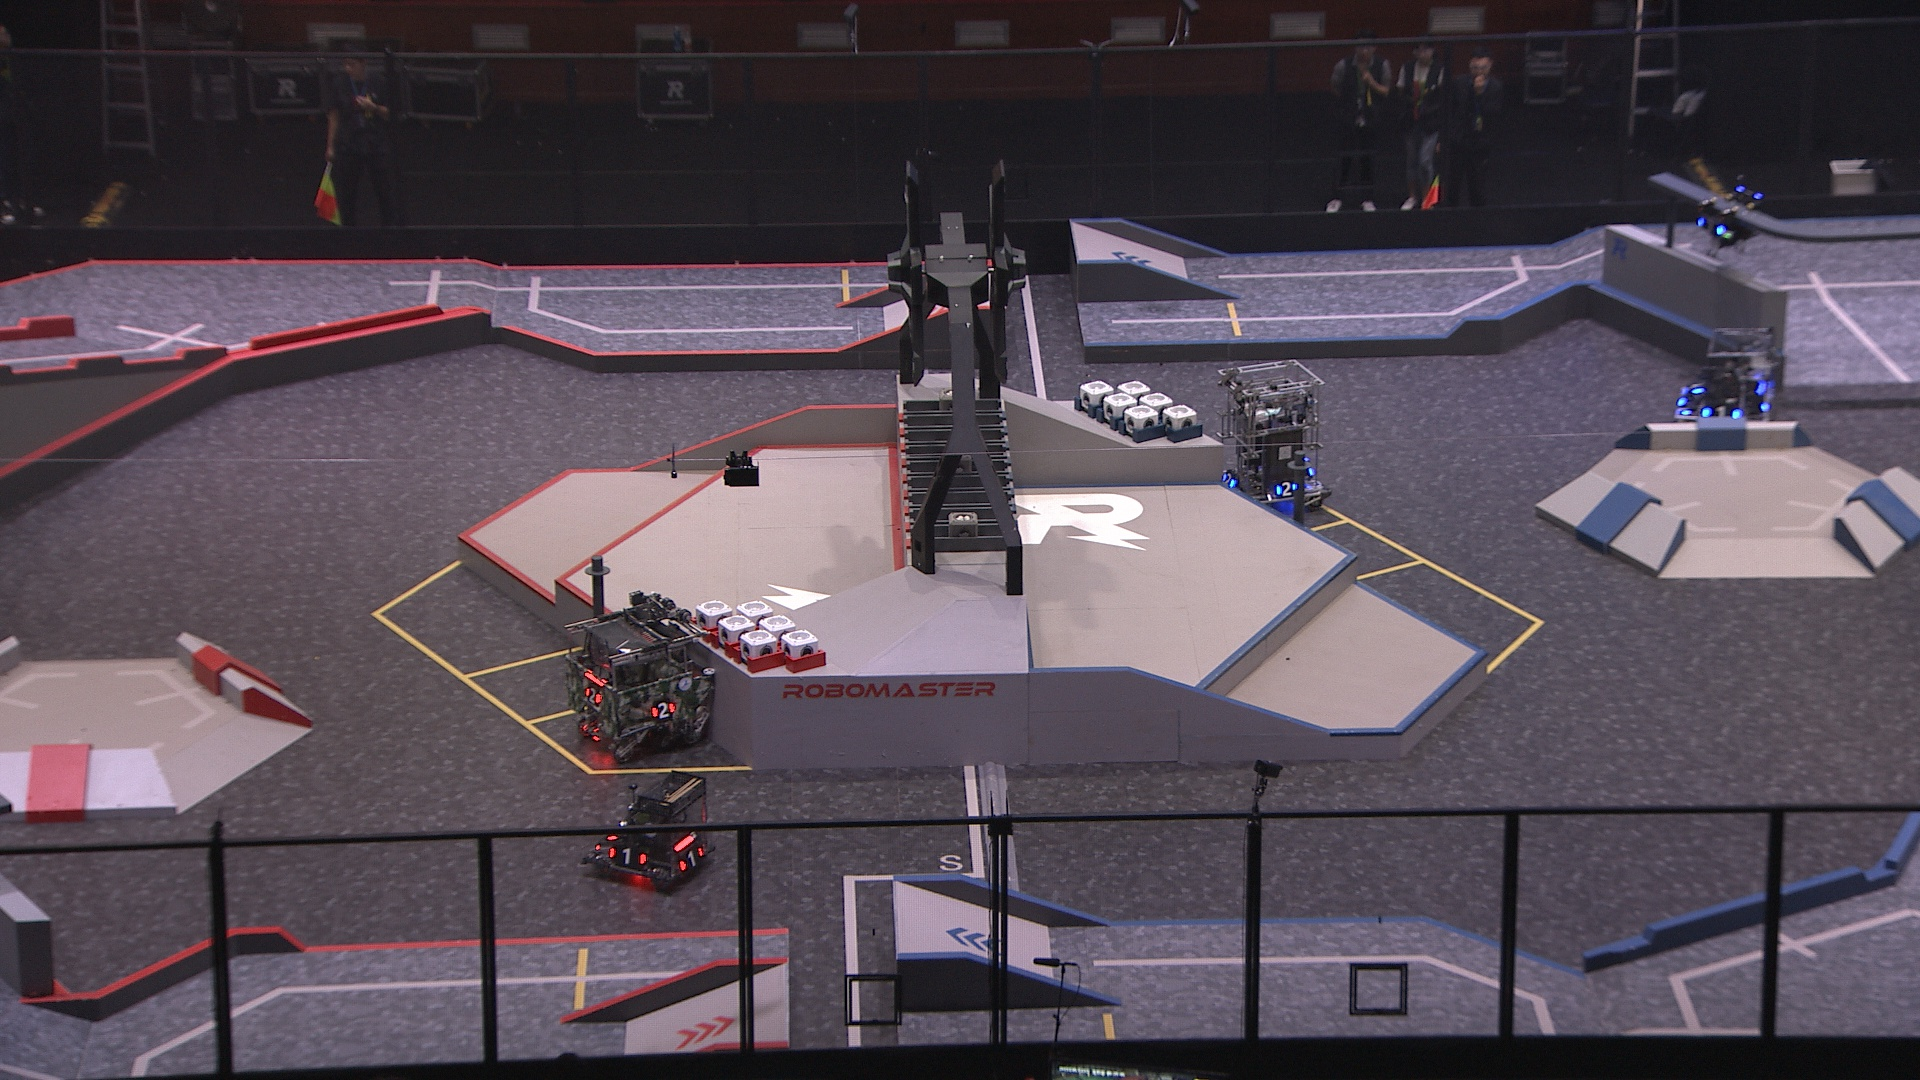armor: (607, 844, 647, 868), (676, 844, 705, 872), (1702, 406, 1746, 423), (1697, 216, 1726, 239), (651, 698, 678, 719), (1756, 384, 1776, 409), (1273, 481, 1298, 498), (1218, 469, 1238, 491), (1684, 376, 1706, 394), (584, 687, 604, 704)
car: (558, 593, 717, 761), (1211, 357, 1332, 506), (580, 767, 723, 894), (1671, 324, 1787, 434)
watcher: (1692, 169, 1764, 261)
